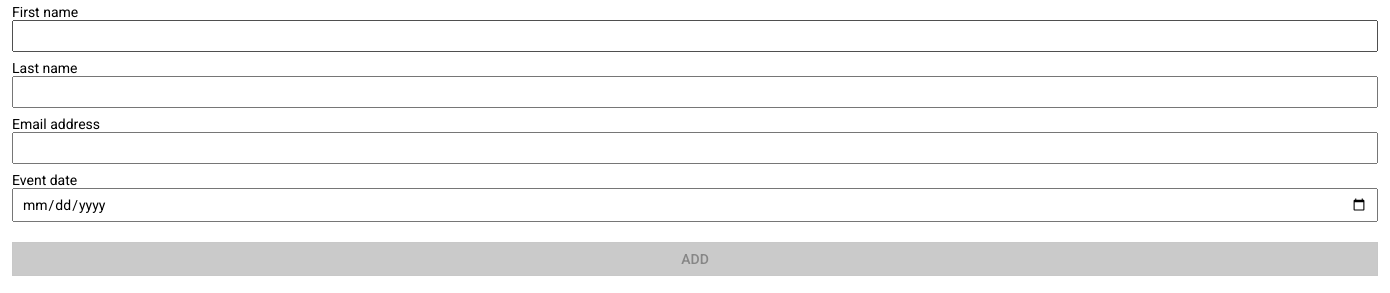
Test: <EventForm> tests › should enable button when all inputs are provided and valid
Type "bartek" into the field labelled "First name" at coordinates (695, 36), box [12,20,1378,52]
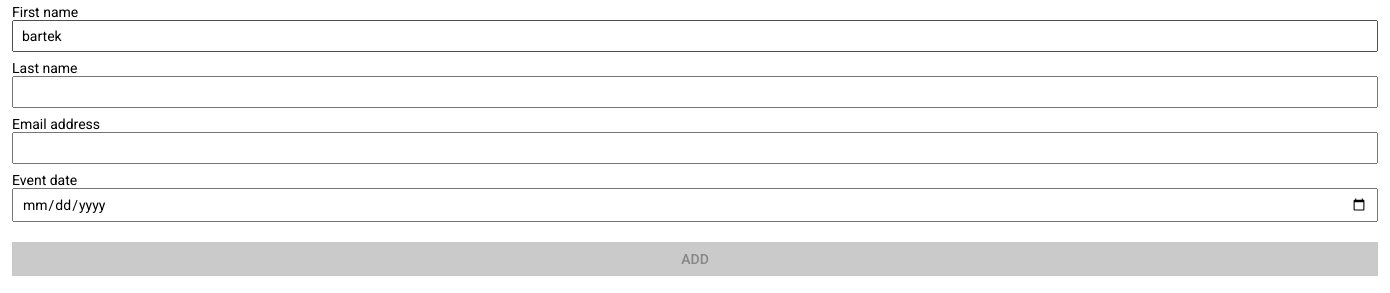
Type "sniezek" into the field labelled "Last name" at coordinates (695, 92), box [12,76,1378,108]
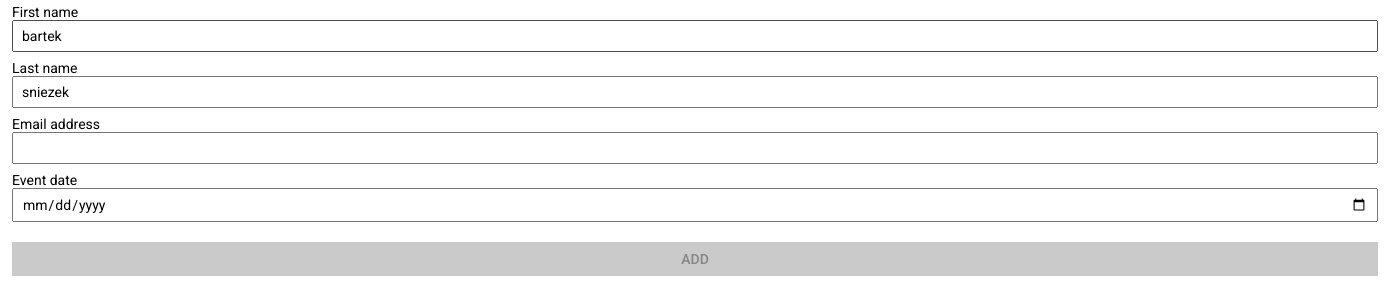
Type "example@domain.com" into the field labelled "Email address" at coordinates (695, 148), box [12,132,1378,164]
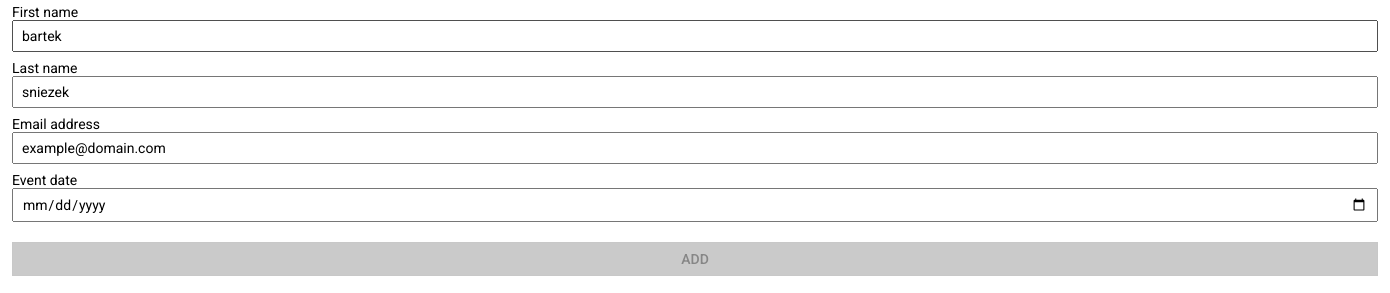
Type "2020-10-10" into the date field labelled "Event date" at coordinates (695, 205), box [12,188,1378,222]
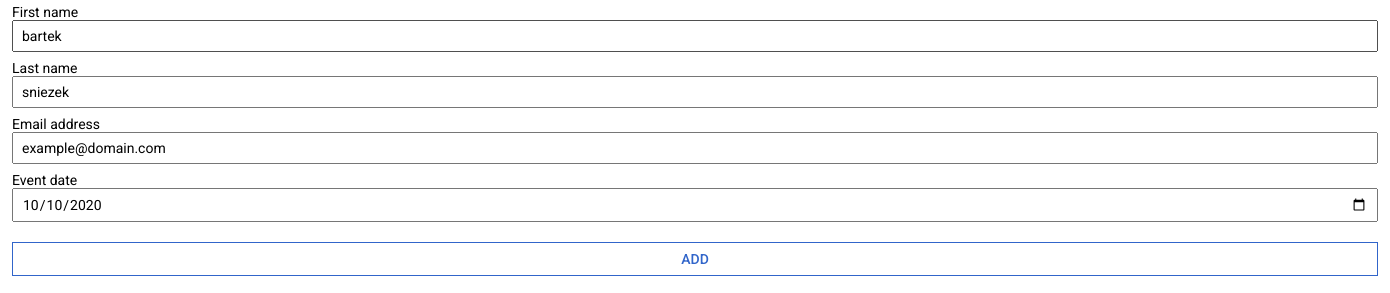
Check: the button showing "Add" is enabled, box [12,242,1378,276]
